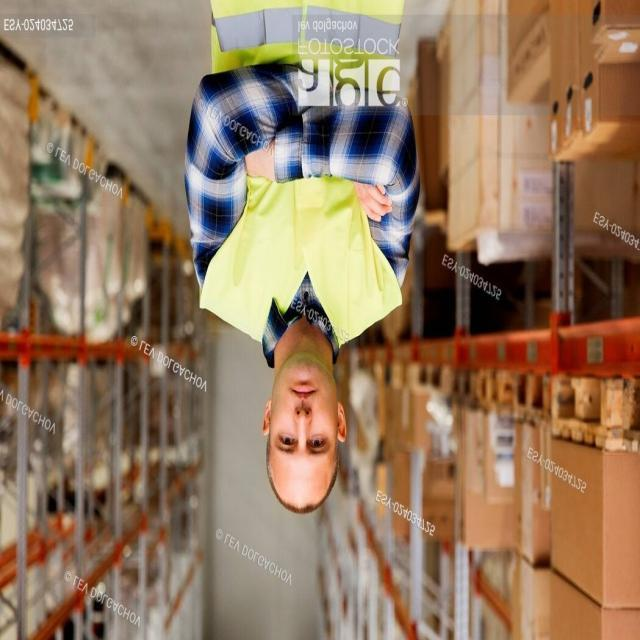Vest: (202, 6, 408, 342)
